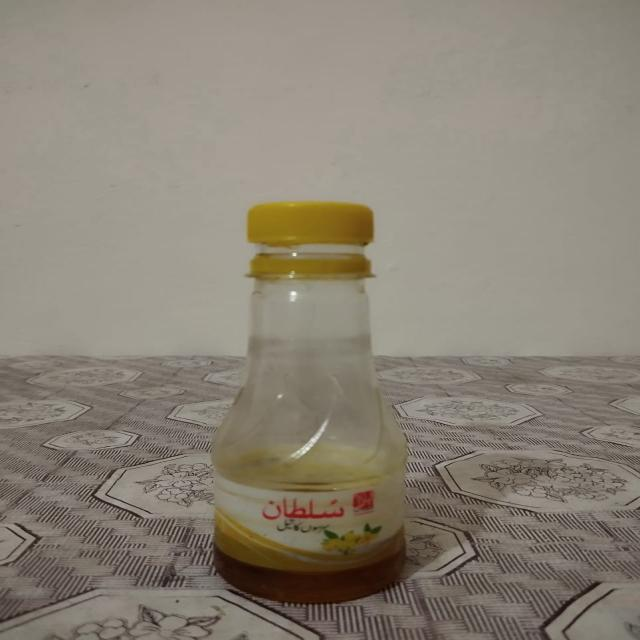bottle: (195, 196, 444, 610)
cap: (238, 198, 381, 282)
label: (206, 458, 408, 590)
